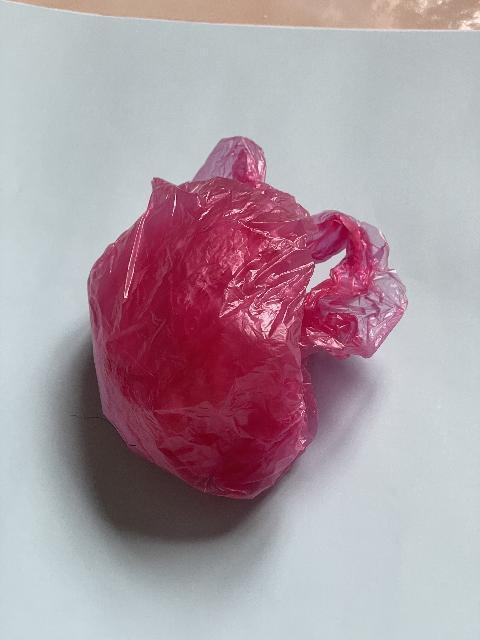plasticbag: (84, 132, 412, 504)
